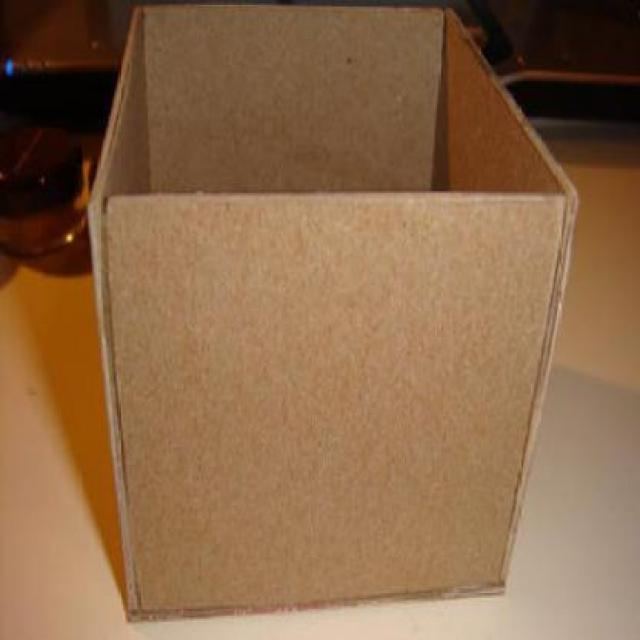box: (77, 0, 585, 640)
